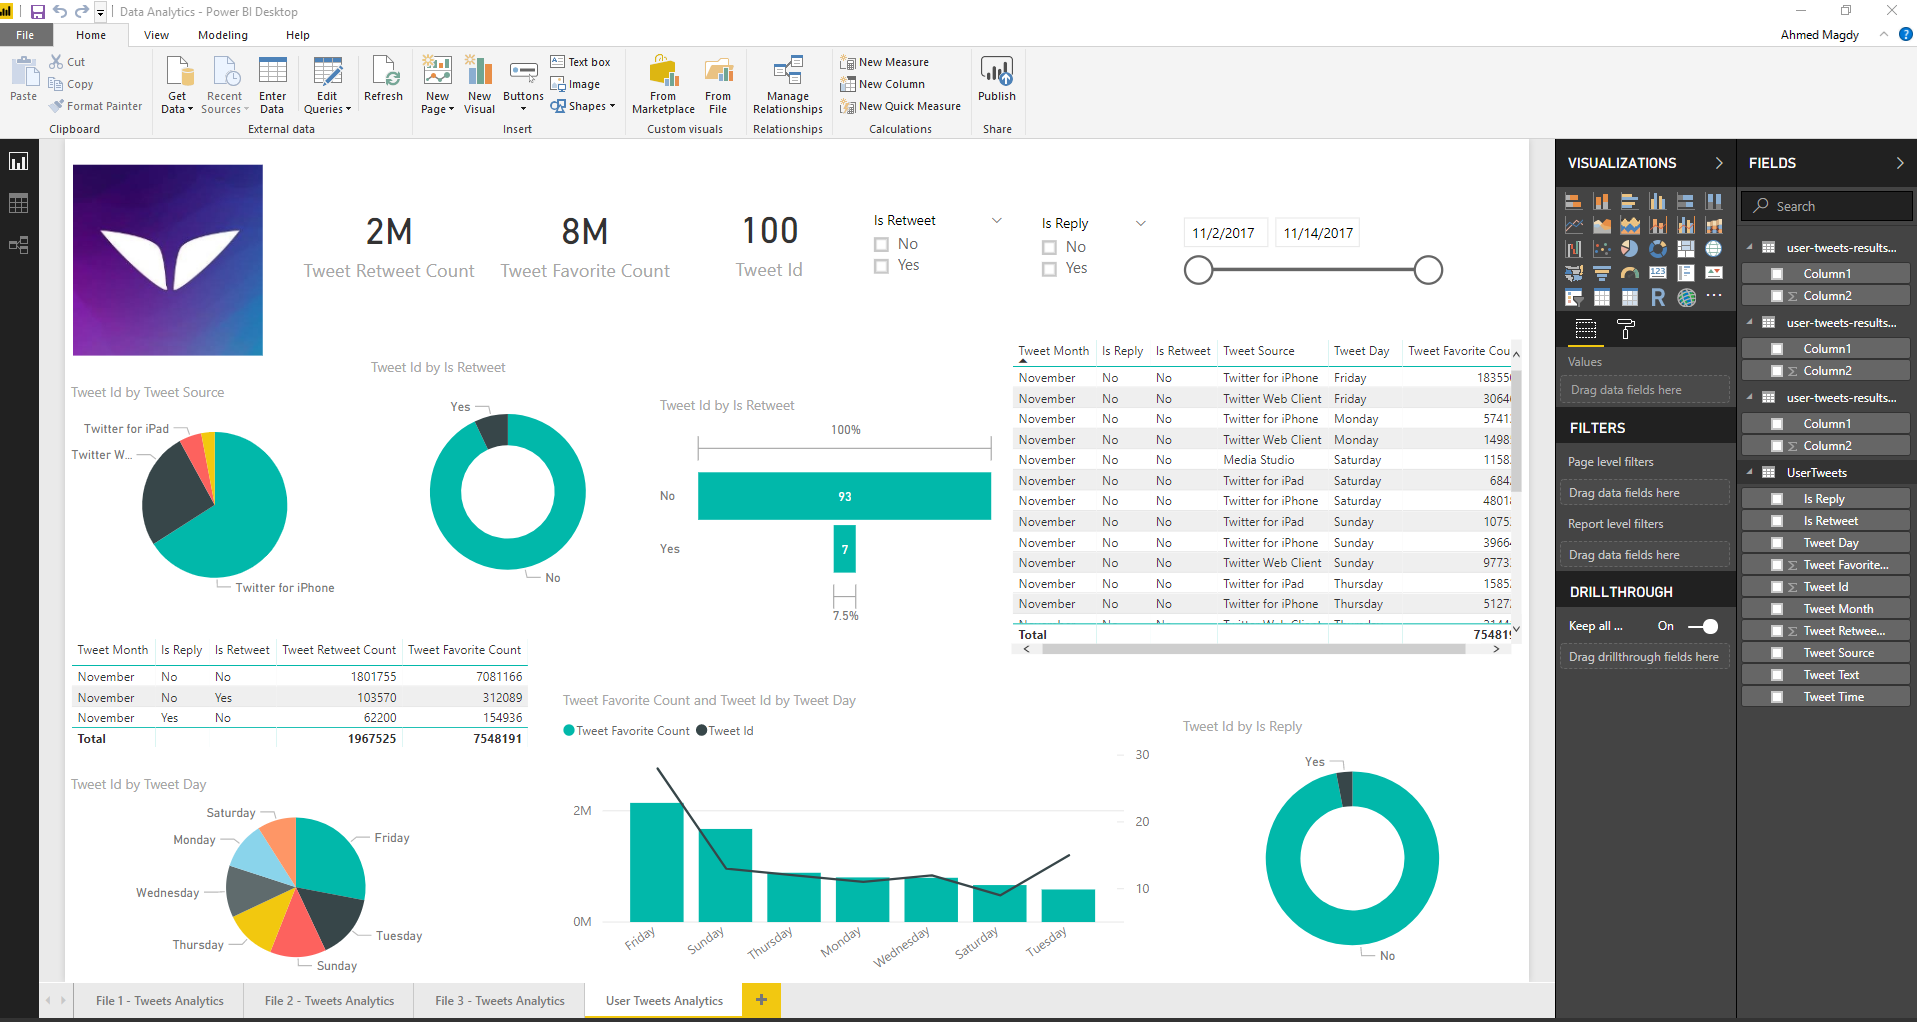

The page's visual inventory and layout, read from the dashboard file:
{"tool":"powerbi","page":{"name":"User Tweets Analytics","canvas":[1280,720],"ordinal":3},"visuals":[{"type":"pieChart","fields":{"Category":["UserTweets.Tweet Source"],"Y":["CountNonNull(UserTweets.Tweet Id)"]},"box":[0,195.1,262.5,198.6],"z":2},{"type":"card","fields":{"Values":["Sum(UserTweets.Tweet Retweet Count)"]},"box":[202.1,27.1,162.7,87.5],"z":3},{"type":"card","fields":{"Values":["Sum(UserTweets.Tweet Favorite Count)"]},"box":[374.4,27.1,161,86.6],"z":4},{"type":"tableEx","fields":{"Values":["UserTweets.Tweet Month","UserTweets.Is Reply","UserTweets.Is Retweet","Sum(UserTweets.Tweet Retweet Count)","Sum(UserTweets.Tweet Favorite Count)"]},"box":[0,414.7,424.3,120.7],"z":5},{"type":"image","box":[0,0,179.3,176.7],"z":6},{"type":"donutChart","fields":{"Y":["CountNonNull(UserTweets.Tweet Id)"],"Category":["UserTweets.Is Retweet"]},"box":[262.5,173.2,250.2,220.5],"z":6},{"type":"funnel","fields":{"Y":["CountNonNull(UserTweets.Tweet Id)"],"Category":["UserTweets.Is Retweet"]},"box":[515.3,206.5,305.3,207.3],"z":7},{"type":"card","fields":{"Values":["CountNonNull(UserTweets.Tweet Id)"]},"box":[544.2,27.1,144.3,85.7],"z":8},{"type":"slicer","fields":{"Values":["UserTweets.Is Reply"]},"box":[841.6,42,117.2,69.1],"z":9},{"type":"slicer","fields":{"Values":["UserTweets.Is Retweet"]},"box":[694.6,39.4,138.2,71.7],"z":10},{"type":"slicer","fields":{"Values":["UserTweets.Tweet Time"]},"box":[965.8,41.1,250.2,77.9],"z":11},{"type":"lineClusteredColumnComboChart","fields":{"Category":["UserTweets.Tweet Day"],"Y":["Sum(UserTweets.Tweet Favorite Count)"],"Y2":["CountNonNull(UserTweets.Tweet Id)"]},"box":[430.4,464.5,523.2,254.6],"z":12},{"type":"donutChart","fields":{"Category":["UserTweets.Is Reply"],"Y":["CountNonNull(UserTweets.Tweet Id)"]},"box":[972.8,487.3,307.1,232.7],"z":12},{"type":"tableEx","fields":{"Values":["UserTweets.Tweet Month","UserTweets.Is Reply","UserTweets.Is Retweet","UserTweets.Tweet Source","UserTweets.Tweet Day","Sum(UserTweets.Tweet Favorite Count)"]},"box":[823.2,153.1,455.9,285.2],"z":14},{"type":"pieChart","fields":{"Y":["CountNonNull(UserTweets.Tweet Id)"],"Category":["UserTweets.Tweet Day"]},"box":[0,538,404.2,182],"z":15}]}

Visuals, with their boxes on the page's 1280x720 design canvas (x1, y1, x2, y2). These are canvas units, not pixel positions in the 1917x1022 screenshot, which may show the page scaled, cropped or inside an application window:
pieChart - UserTweets.Tweet Source x CountNonNull(UserTweets.Tweet Id): bbox(0, 195, 262, 394)
card - Sum(UserTweets.Tweet Retweet Count): bbox(202, 27, 365, 115)
card - Sum(UserTweets.Tweet Favorite Count): bbox(374, 27, 535, 114)
tableEx - UserTweets.Tweet Month x UserTweets.Is Reply: bbox(0, 415, 424, 535)
image: bbox(0, 0, 179, 177)
donutChart - CountNonNull(UserTweets.Tweet Id) x UserTweets.Is Retweet: bbox(262, 173, 513, 394)
funnel - CountNonNull(UserTweets.Tweet Id) x UserTweets.Is Retweet: bbox(515, 206, 821, 414)
card - CountNonNull(UserTweets.Tweet Id): bbox(544, 27, 688, 113)
slicer - UserTweets.Is Reply: bbox(842, 42, 959, 111)
slicer - UserTweets.Is Retweet: bbox(695, 39, 833, 111)
slicer - UserTweets.Tweet Time: bbox(966, 41, 1216, 119)
lineClusteredColumnComboChart - UserTweets.Tweet Day x Sum(UserTweets.Tweet Favorite Count): bbox(430, 464, 954, 719)
donutChart - UserTweets.Is Reply x CountNonNull(UserTweets.Tweet Id): bbox(973, 487, 1280, 720)
tableEx - UserTweets.Tweet Month x UserTweets.Is Reply: bbox(823, 153, 1279, 438)
pieChart - CountNonNull(UserTweets.Tweet Id) x UserTweets.Tweet Day: bbox(0, 538, 404, 720)
